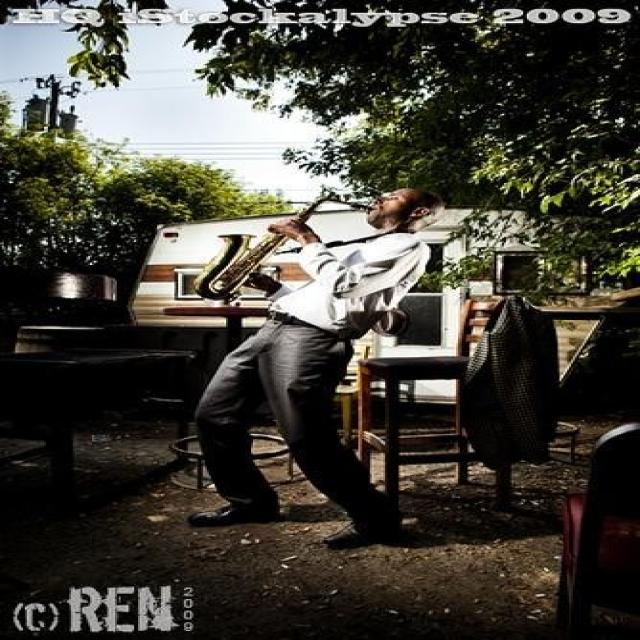saxophone: (187, 193, 372, 304)
